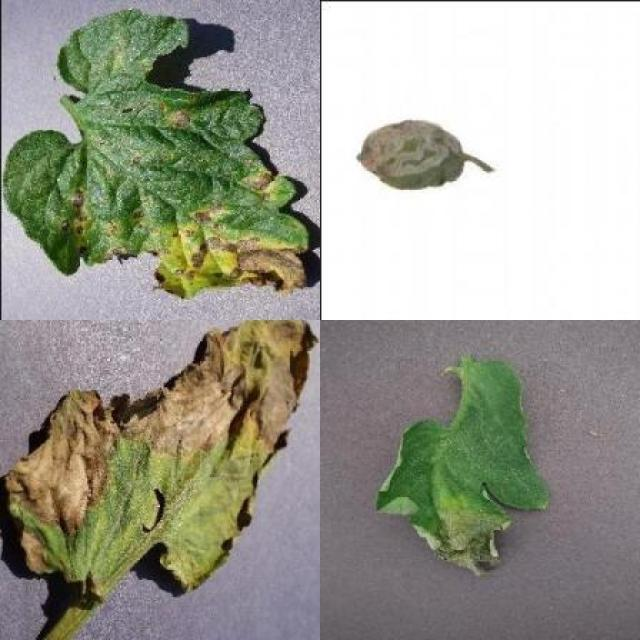Late Blight: (1, 319, 319, 595), (377, 357, 552, 574)
Leaf Miner: (356, 116, 466, 188)
Septoria: (0, 9, 311, 296)
